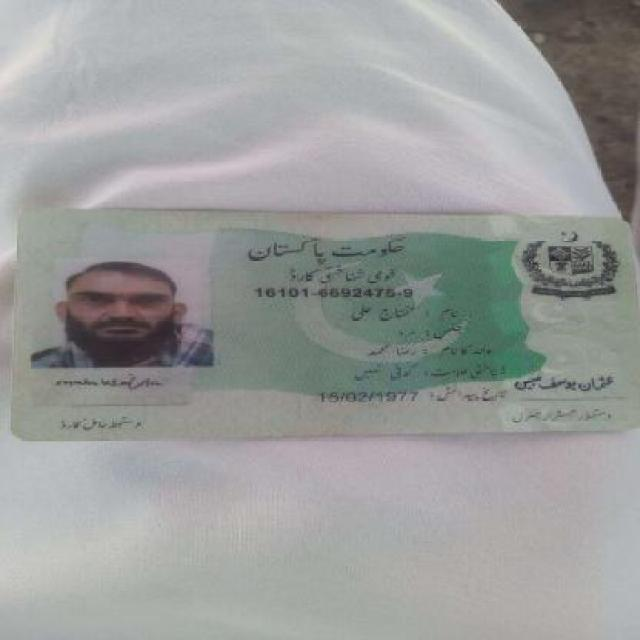Front: (11, 198, 638, 442)
